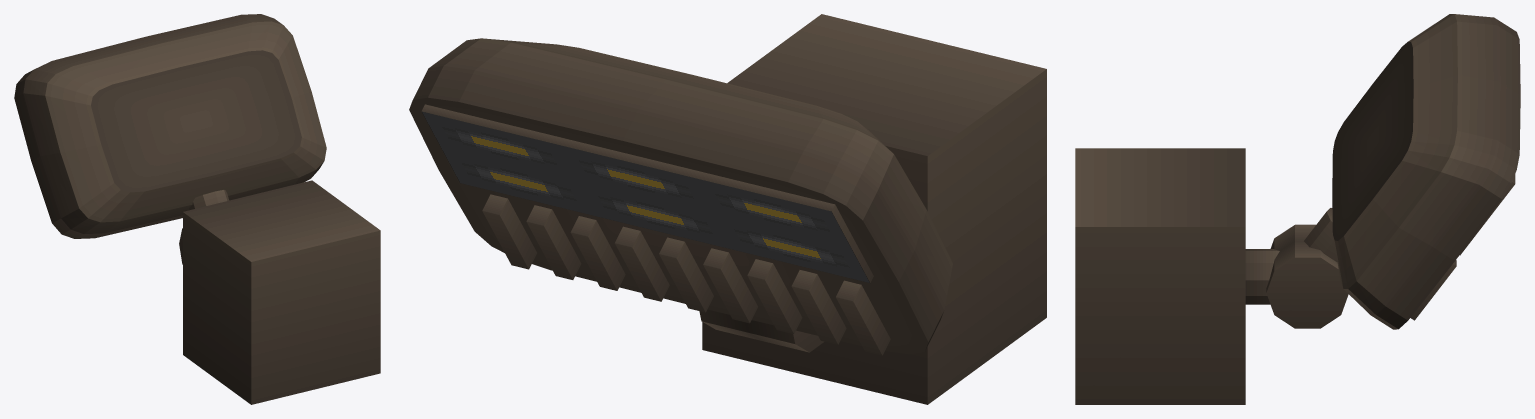
Rendered from floodlight_lithdsxf2sf.obj.
3 renders of one model, left to right at view 1: azimuth 30°, elevation 25°; view 2: azimuth 150°, elevation 25°; view 3: azimuth 270°, elevation 25°, orthographic. The views are drawn at different scales.
Parts seen in each view (by area): view 1: fixture; view 2: fixture; view 3: fixture.
Part boxes in pixels (x1,y1,x2,y2): fixture: (14, 14, 380, 404); fixture: (409, 14, 1046, 404); fixture: (1075, 14, 1520, 404).
Size of the model in its own units: 0.4598 by 0.388 by 0.5389.
